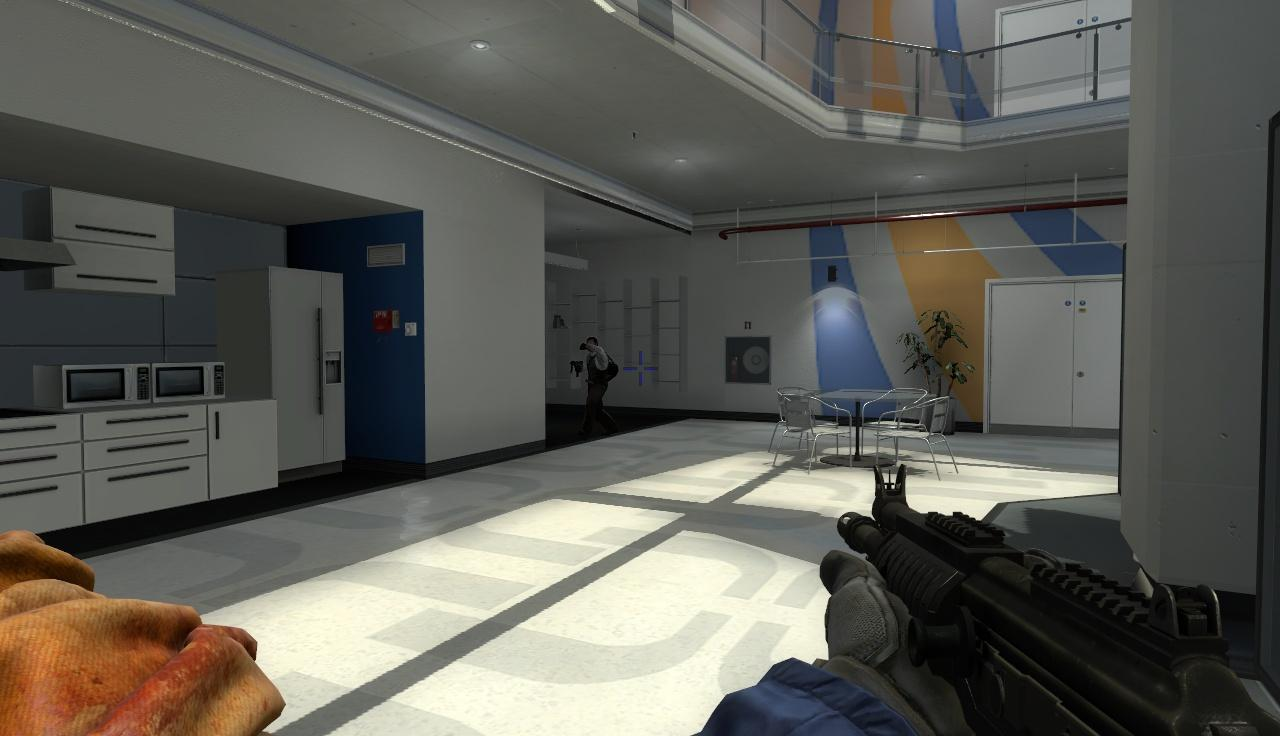rifle: (822, 470, 1280, 736)
tt: (585, 336, 612, 434)
tthead: (587, 337, 598, 352)
